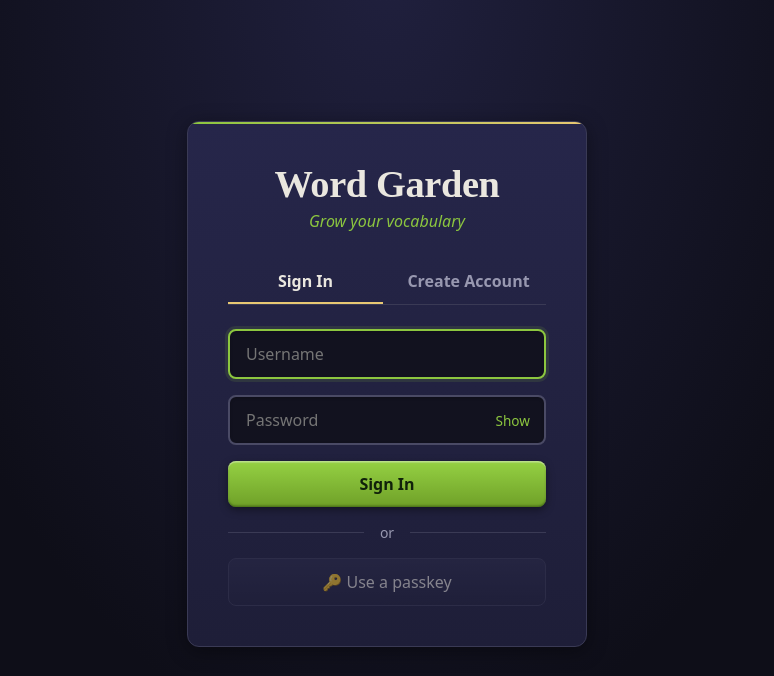
Scenario: Client-side validation › blocks submit and shows an error for a too-short password
This screenshot has width=774, height=676.
Type "alice" into the field with placeholder "Username" at coordinates (387, 354), box 228,329 -> 546,379
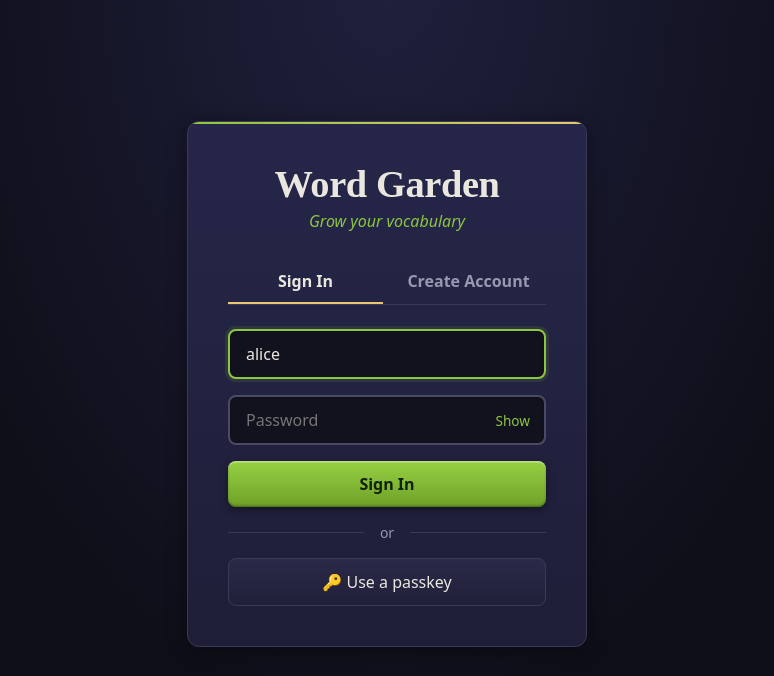
Type "short" into the password field with placeholder "Password" at coordinates (387, 420), box 228,395 -> 546,445
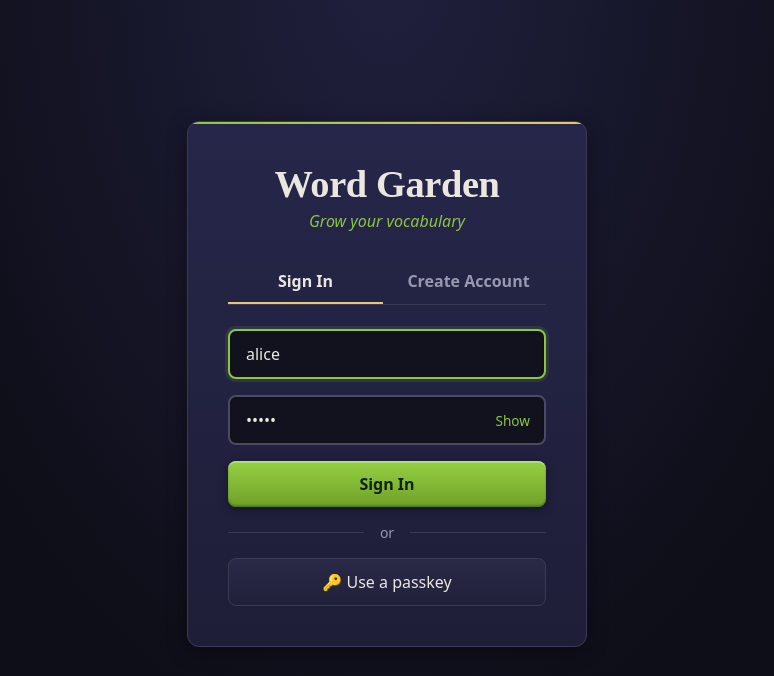
Submit the form, box 228,329 -> 546,606
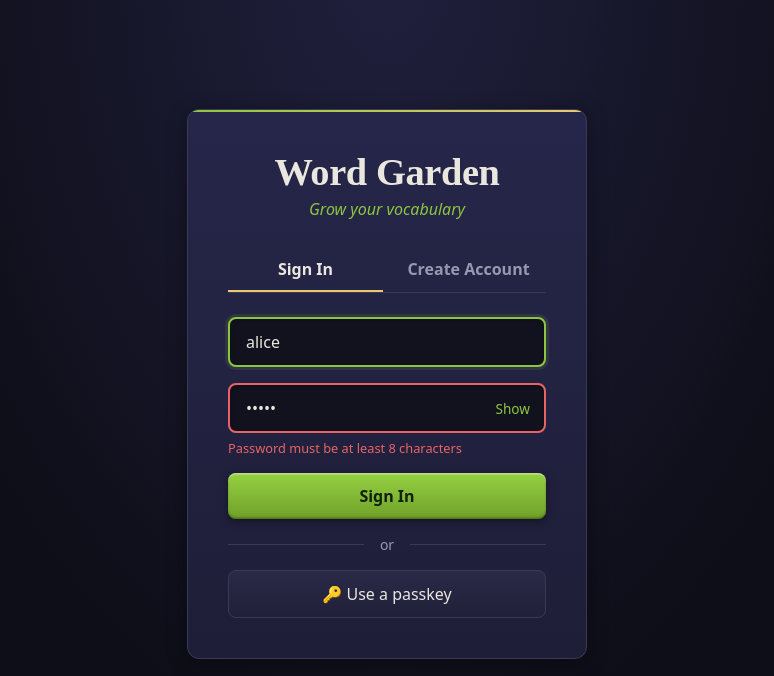
Expected: the text "Password must be at least 8 characters" is shown, 228,439 -> 462,457
